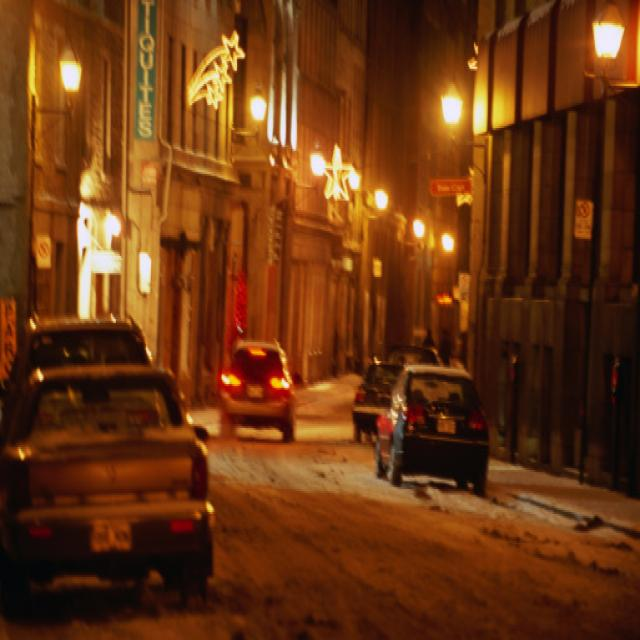car: (13, 369, 210, 621), (8, 282, 212, 492), (380, 363, 487, 521), (338, 336, 439, 451), (218, 323, 295, 448)
